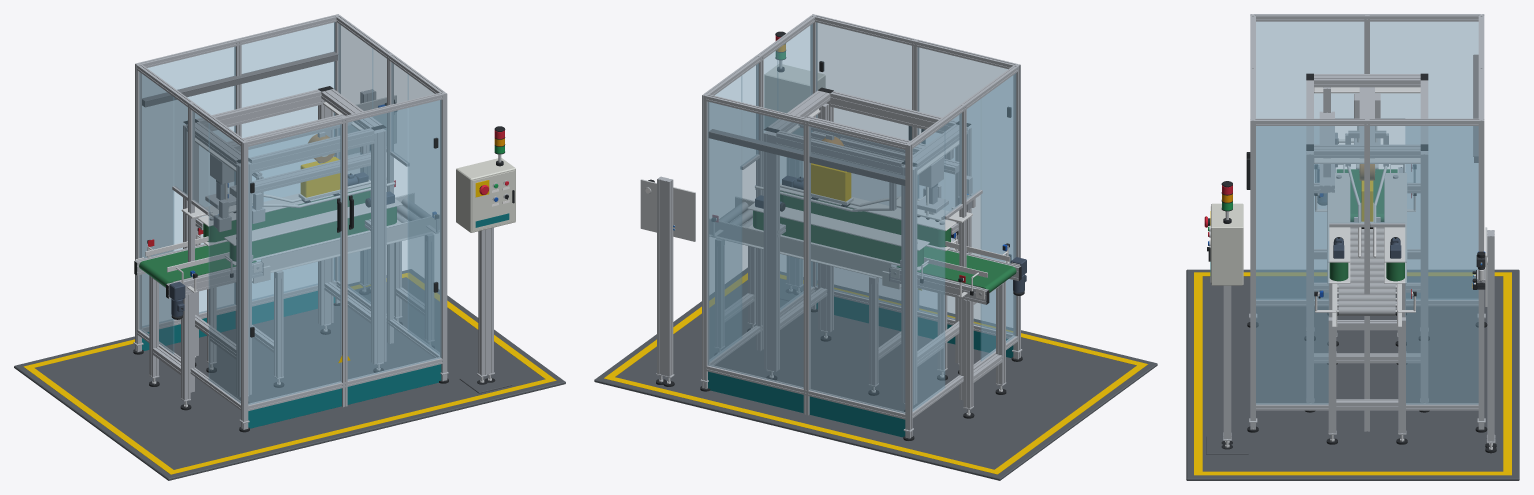
Rendered from sealer.glb.
The picture shows the model from 3 angles, left to right: view 1: azimuth 30°, elevation 25°; view 2: azimuth 150°, elevation 25°; view 3: azimuth 270°, elevation 25°; orthographic projection. The views are drawn at different scales.
Parts seen in each view (by area): view 1: glass_guard, static_alu, static_base, static_inox, static_accent, static_warn, static_cabinet, belt_side_R, static_duct, belt_in, static_black, belt_side_L (+1 smaller); view 2: glass_guard, static_alu, static_base, static_inox, static_warn, static_accent, belt_side_L, static_cabinet, belt_side_R, static_duct, belt_in, static_black (+1 smaller); view 3: glass_guard, static_base, static_alu, static_inox, static_warn, static_roller, static_cabinet, static_black, belt_in, static_duct, static_motor, belt_side_R.
Boxes of the visible parts, box(x1,y1,x2,y2) form: glass_guard: box(139, 22, 441, 404); static_alu: box(133, 14, 494, 429); static_base: box(14, 269, 565, 480); static_inox: box(135, 95, 439, 292); static_accent: box(142, 213, 509, 428); static_warn: box(23, 157, 556, 474); static_cabinet: box(322, 155, 515, 232); belt_side_R: box(229, 206, 396, 261); static_duct: box(142, 51, 338, 107); belt_in: box(139, 241, 256, 286); static_black: box(133, 86, 514, 432); belt_side_L: box(203, 187, 370, 242); glass_guard: box(707, 22, 1016, 413); static_alu: box(656, 14, 1022, 438); static_base: box(594, 267, 1157, 480); static_inox: box(640, 108, 1020, 299); static_warn: box(604, 163, 1147, 474); static_accent: box(708, 296, 1013, 437); belt_side_L: box(753, 210, 923, 266); static_cabinet: box(764, 64, 825, 135); belt_side_R: box(780, 191, 950, 247); static_duct: box(708, 129, 905, 185); belt_in: box(897, 246, 1016, 292); static_black: box(648, 31, 1024, 440); glass_guard: box(1256, 21, 1478, 404); static_base: box(1186, 269, 1519, 480); static_alu: box(1223, 14, 1495, 443); static_inox: box(1314, 87, 1487, 326); static_warn: box(1194, 180, 1511, 475); static_roller: box(1336, 172, 1405, 315); static_cabinet: box(1210, 164, 1375, 285); static_black: box(1207, 73, 1496, 453); belt_in: box(1336, 169, 1397, 221); static_duct: box(1473, 54, 1478, 162); static_motor: box(1317, 169, 1401, 258); belt_side_R: box(1329, 262, 1348, 281).
Size of the model in its own units: 2.6 by 1.82 by 1.75.
